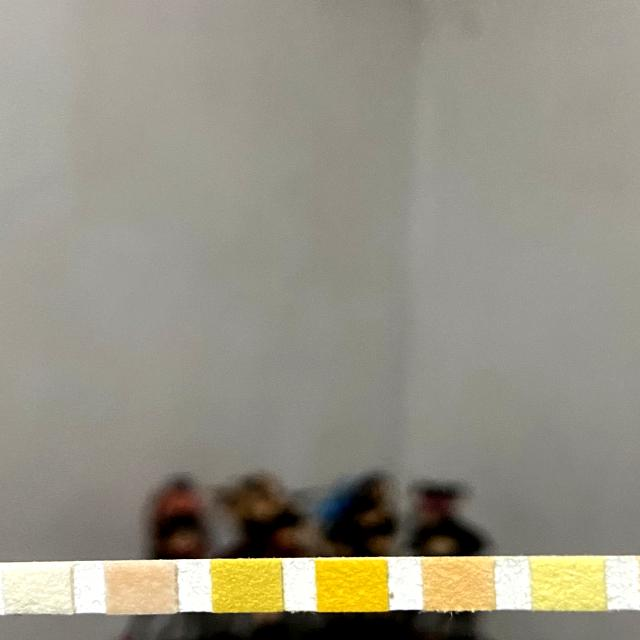Bilirubin: (4, 564, 72, 613)
Blood: (318, 560, 389, 612)
Ketone: (107, 563, 174, 613)
Protein: (532, 556, 603, 611)
SpGravity: (212, 561, 283, 612)
pH: (424, 558, 494, 612)
